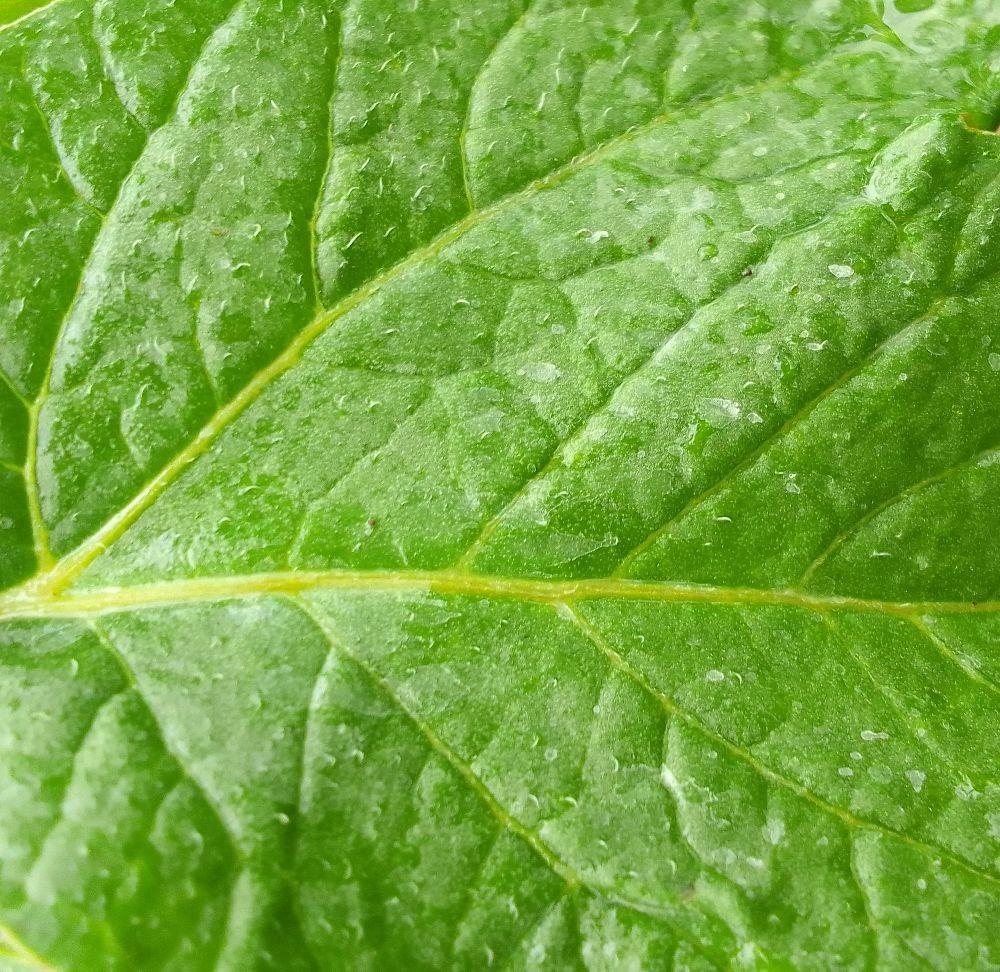late_blight: (220, 213, 780, 758)
